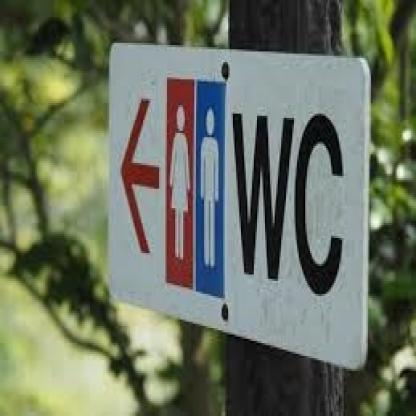toilet: (164, 75, 224, 283)
